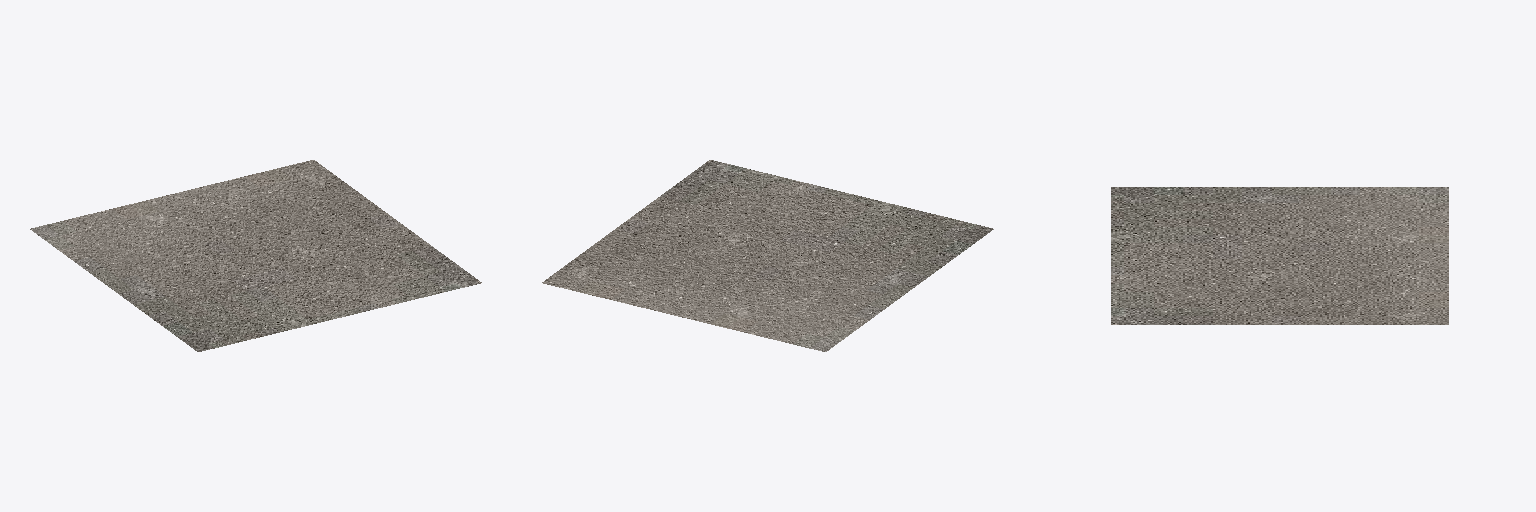
3 views of the same model, side by side, from view 1: azimuth 30°, elevation 25°; view 2: azimuth 150°, elevation 25°; view 3: azimuth 270°, elevation 25° (orthographic).
Parts seen in each view (by area): view 1: pPlane1; view 2: pPlane1; view 3: pPlane1.
Part boxes in pixels (x1,y1,x2,y2): pPlane1: (30, 160, 481, 351); pPlane1: (542, 160, 993, 351); pPlane1: (1111, 187, 1448, 324).
Bounding box in the file's own units: 13.01 × 0 × 13.38.
1 materials, 1 textured.